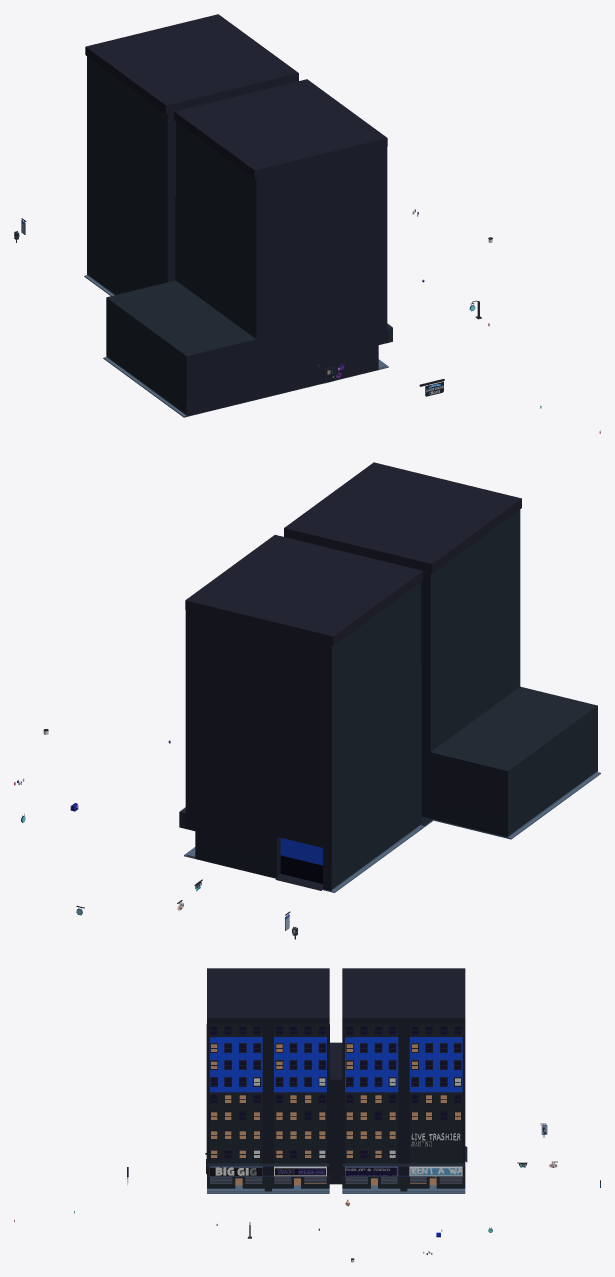
The model's file is EXT_BigCityx2_Interactems.fbx.
3 renders of one model, top to bottom at view 1: azimuth 30°, elevation 25°; view 2: azimuth 150°, elevation 25°; view 3: azimuth 270°, elevation 25°, orthographic. The views are drawn at different scales.
Parts seen in each view (by area): view 1: ApartMint; view 2: ApartMint; view 3: ApartMint.
Part boxes in pixels (bbox=[...]): ApartMint: bbox=[84, 14, 392, 417]; ApartMint: bbox=[179, 462, 600, 892]; ApartMint: bbox=[206, 968, 467, 1193].
Bounding box in the file's own units: 10948 × 5948 × 18023.
